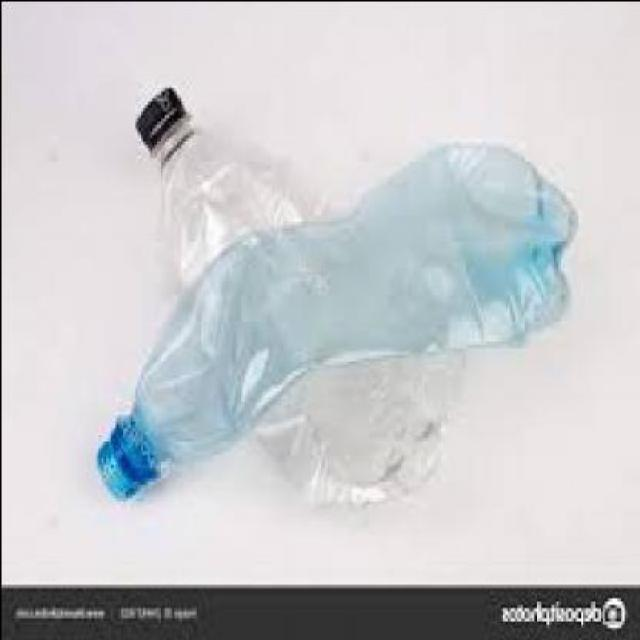PLASTIC: (100, 143, 577, 497), (139, 84, 438, 507), (139, 80, 190, 151)
